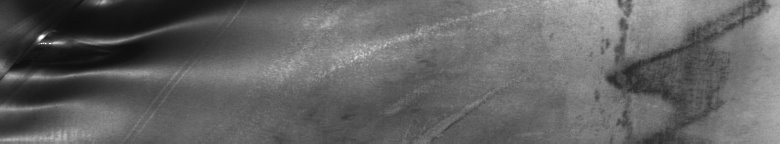ke: (4, 4, 239, 136)
